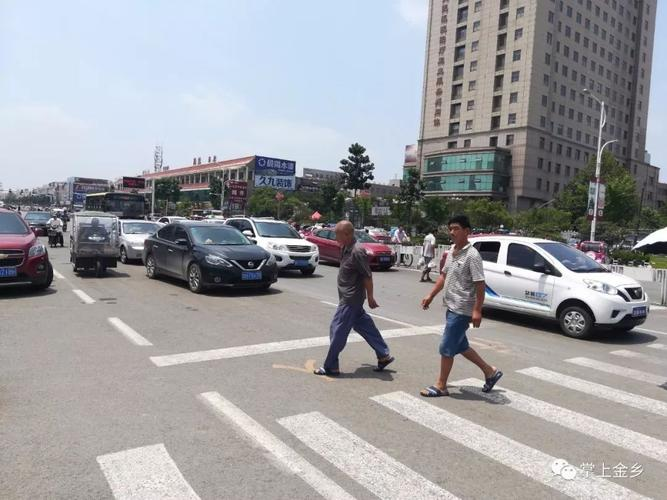bus: (82, 191, 150, 220)
car: (432, 233, 651, 339), (141, 220, 280, 294), (223, 217, 320, 276), (0, 208, 54, 291), (69, 211, 120, 277), (114, 219, 165, 263), (24, 211, 52, 236)
person: (418, 215, 507, 399), (313, 223, 397, 378), (419, 229, 437, 281), (46, 215, 64, 248)
sign: (253, 154, 295, 191)
